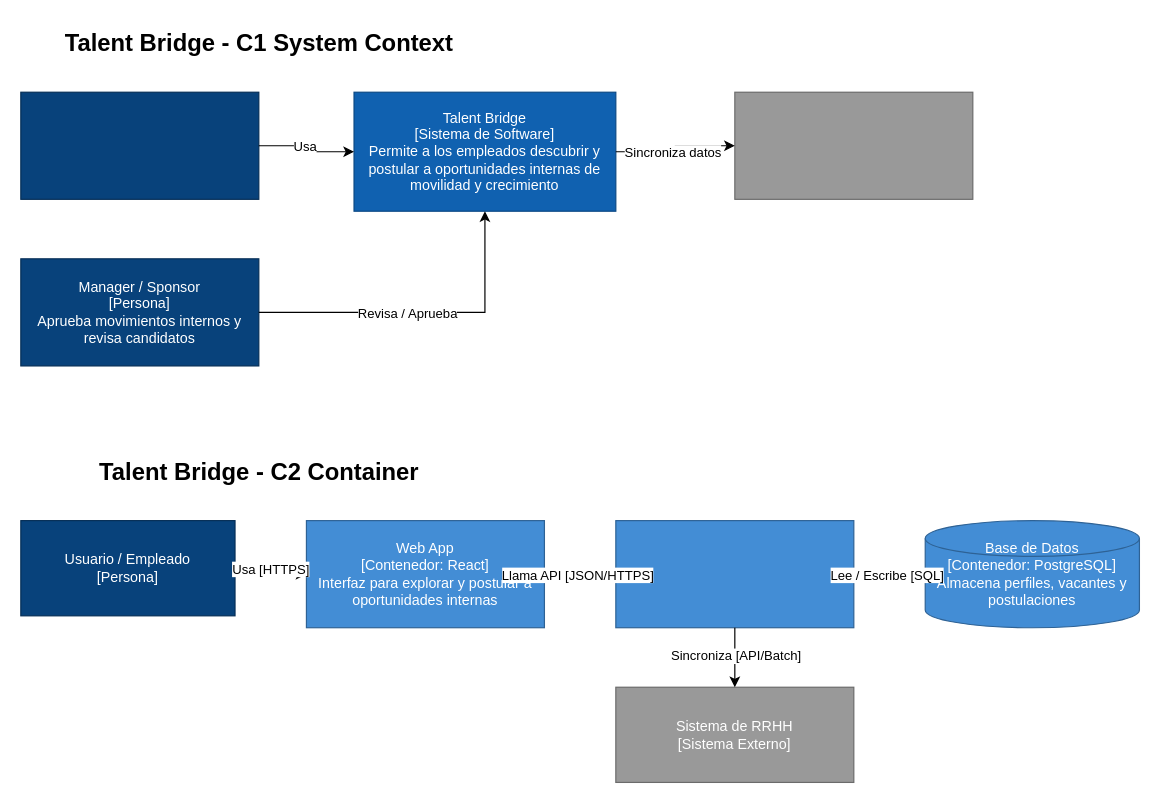
The diagram is 1160 pixels wide and 803 high, and some of its shapes have lost their labels. The shapes that lost their labels are listed below. From the top down, each one's box as (x1, y1, x2, y2) in pixels, then its label:
(20, 91, 259, 199): Usuario / Empleado [Persona] Persona que busca oportunidades internas de carrera
(734, 91, 973, 199): Sistema de RRHH [Sistema Externo] Fuente de datos de empleados y vacantes
(615, 519, 854, 628): API Backend [Contenedor: Node.js / .NET] Expone lógica de negocio vía API REST
